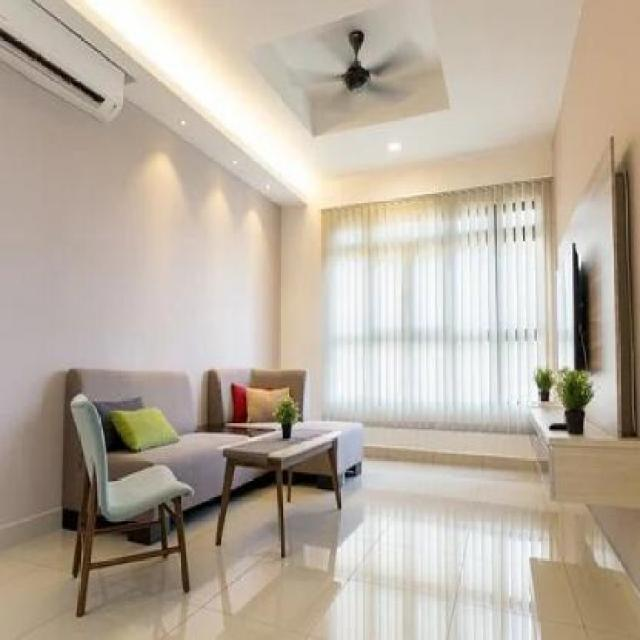Floor: (1, 459, 587, 638), (91, 531, 160, 560), (168, 521, 178, 545)
